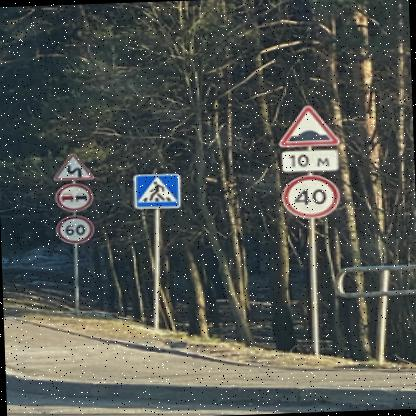crosswalk: (130, 173, 180, 208)
speedlimit: (280, 174, 338, 218), (53, 214, 92, 243)
